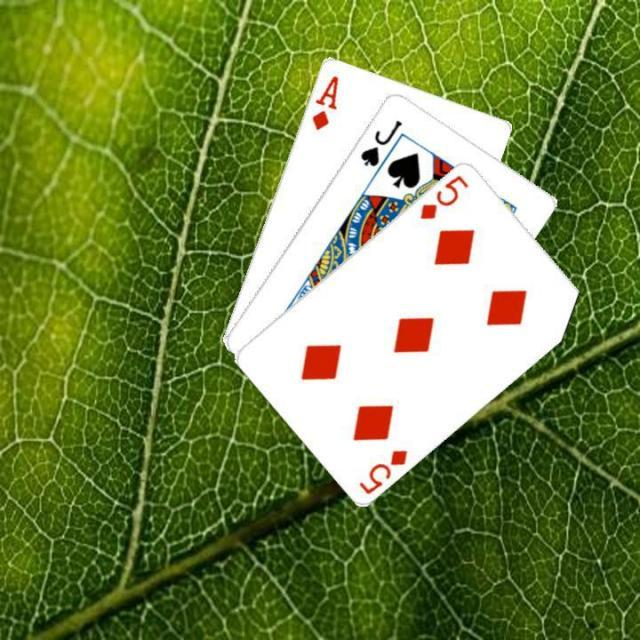5D: (354, 444, 410, 496), (416, 170, 471, 222)
AD: (308, 71, 340, 132)
JS: (356, 115, 404, 168)
